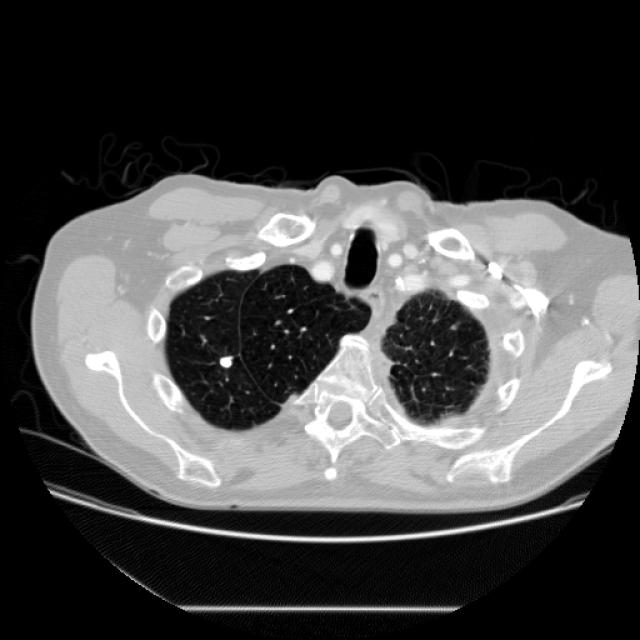nodule: (209, 344, 241, 376)
